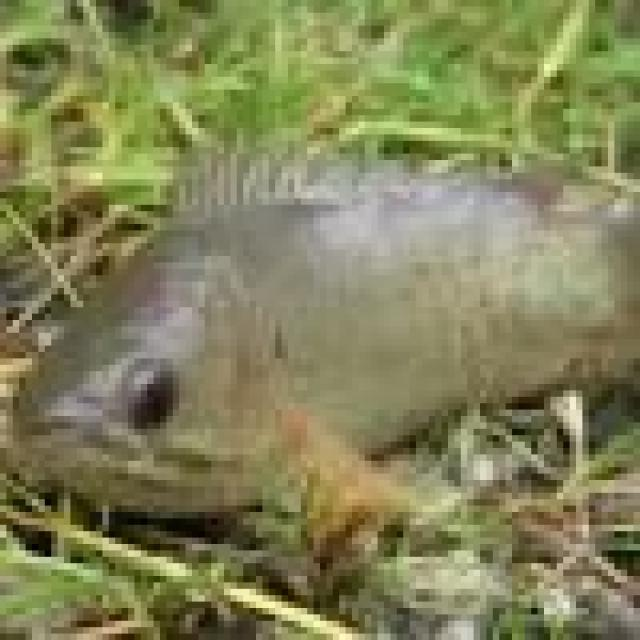Climbing-Perch: (5, 92, 640, 518)
